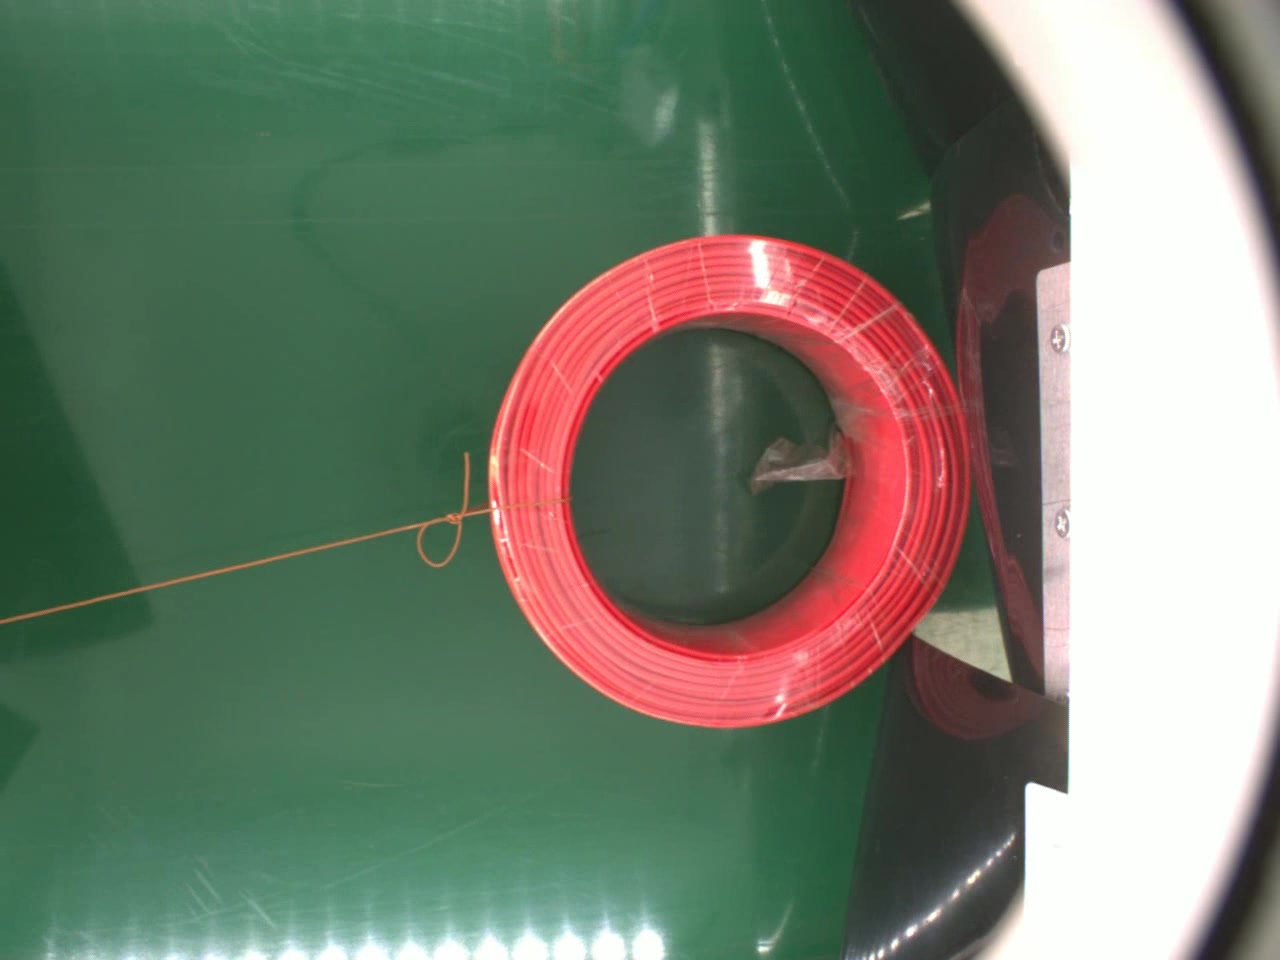red: (489, 231, 969, 729)
